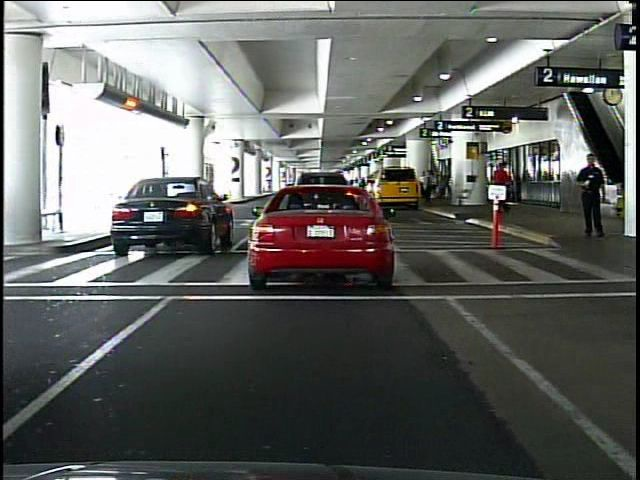person: (577, 151, 607, 241), (488, 158, 512, 215), (418, 165, 432, 202)
